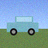vehicle: (7, 16, 38, 35)
